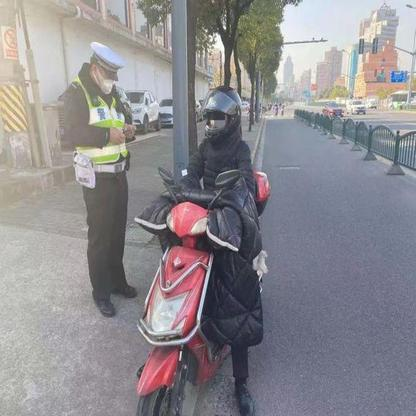target: (137, 85, 272, 410)
